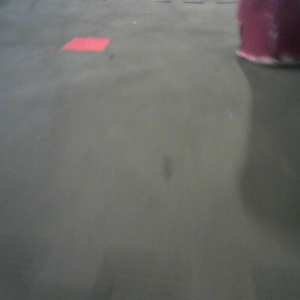Right: (236, 1, 300, 69)
